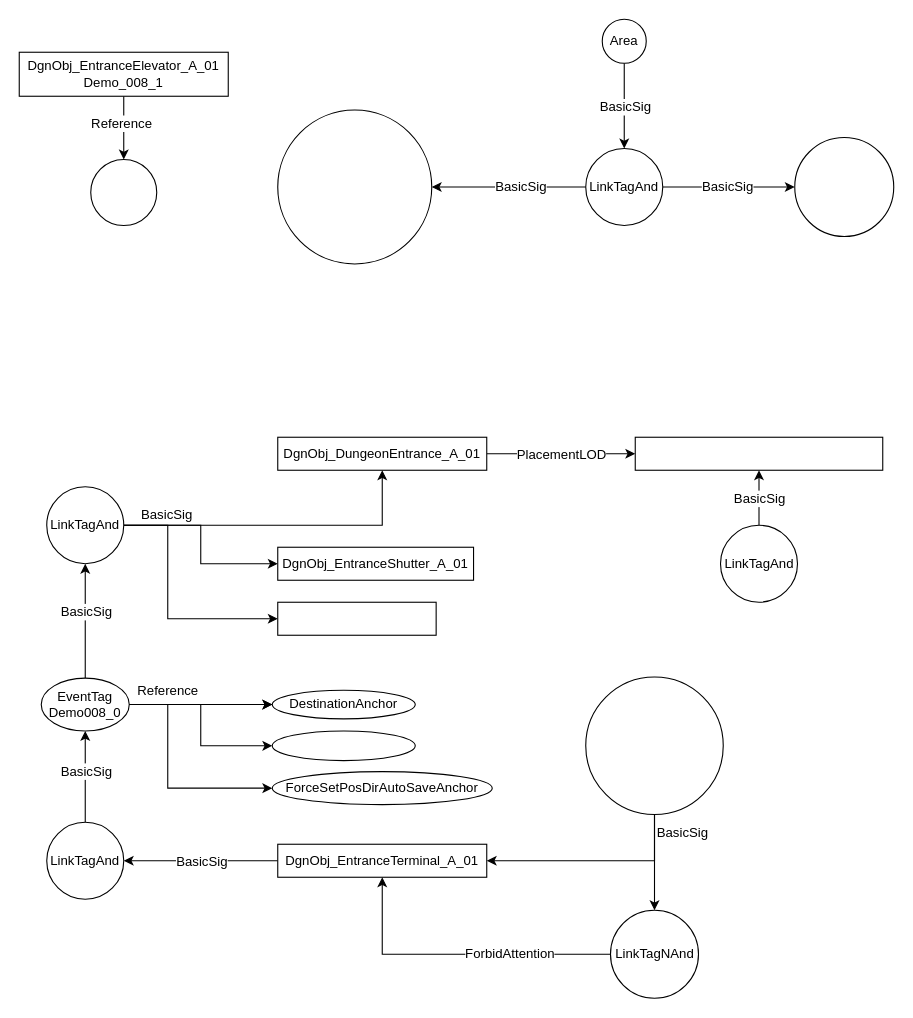
Image size: 913x1018. Some labels were removed from this diagram. The centre of each missing label's shape, as x and y in pixels:
DgnObj_DungeonEntrance_A_01_Far: the point at 758,453
DgnObj_WarpPoint_A_01: the point at 356,618
LinkTagAnd SaveFlag: Location_Dungeon040: the point at 354,186
LinkTagAnd SaveFlag: Maptower_07_Demo: the point at 654,745
LocationTag MessageID: Dungeon_040: the point at 844,186
LookTag: the point at 123,192
PosAfterDemoSkip: the point at 343,745
